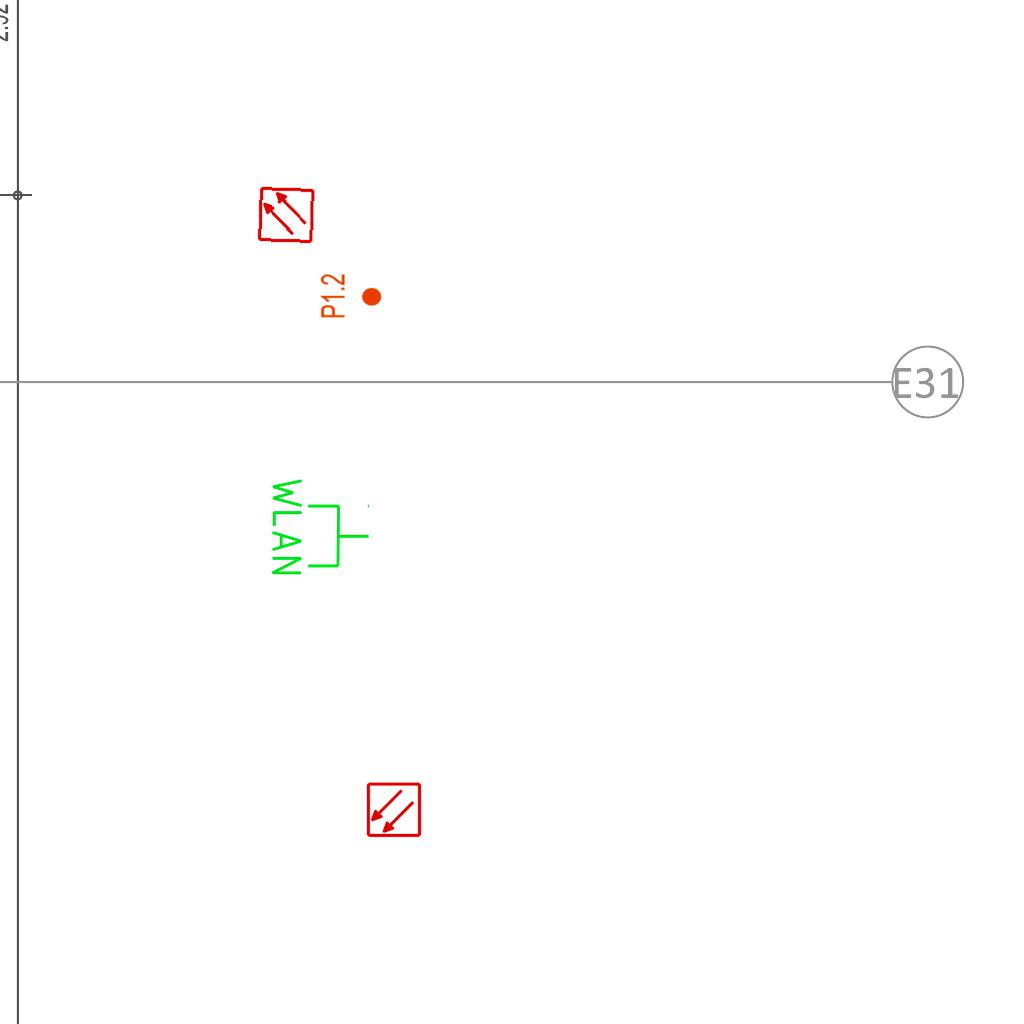Downlight_LED_Einbauleuchten_Flur: (319, 273, 383, 319)
RMO_Rauchmelder_optischer: (257, 186, 315, 244), (366, 782, 422, 838)
WLAN: (268, 474, 372, 579)
